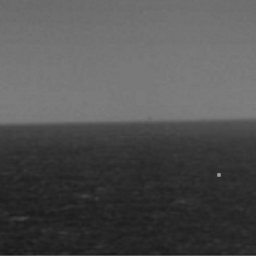Target: (214, 171, 222, 178)
